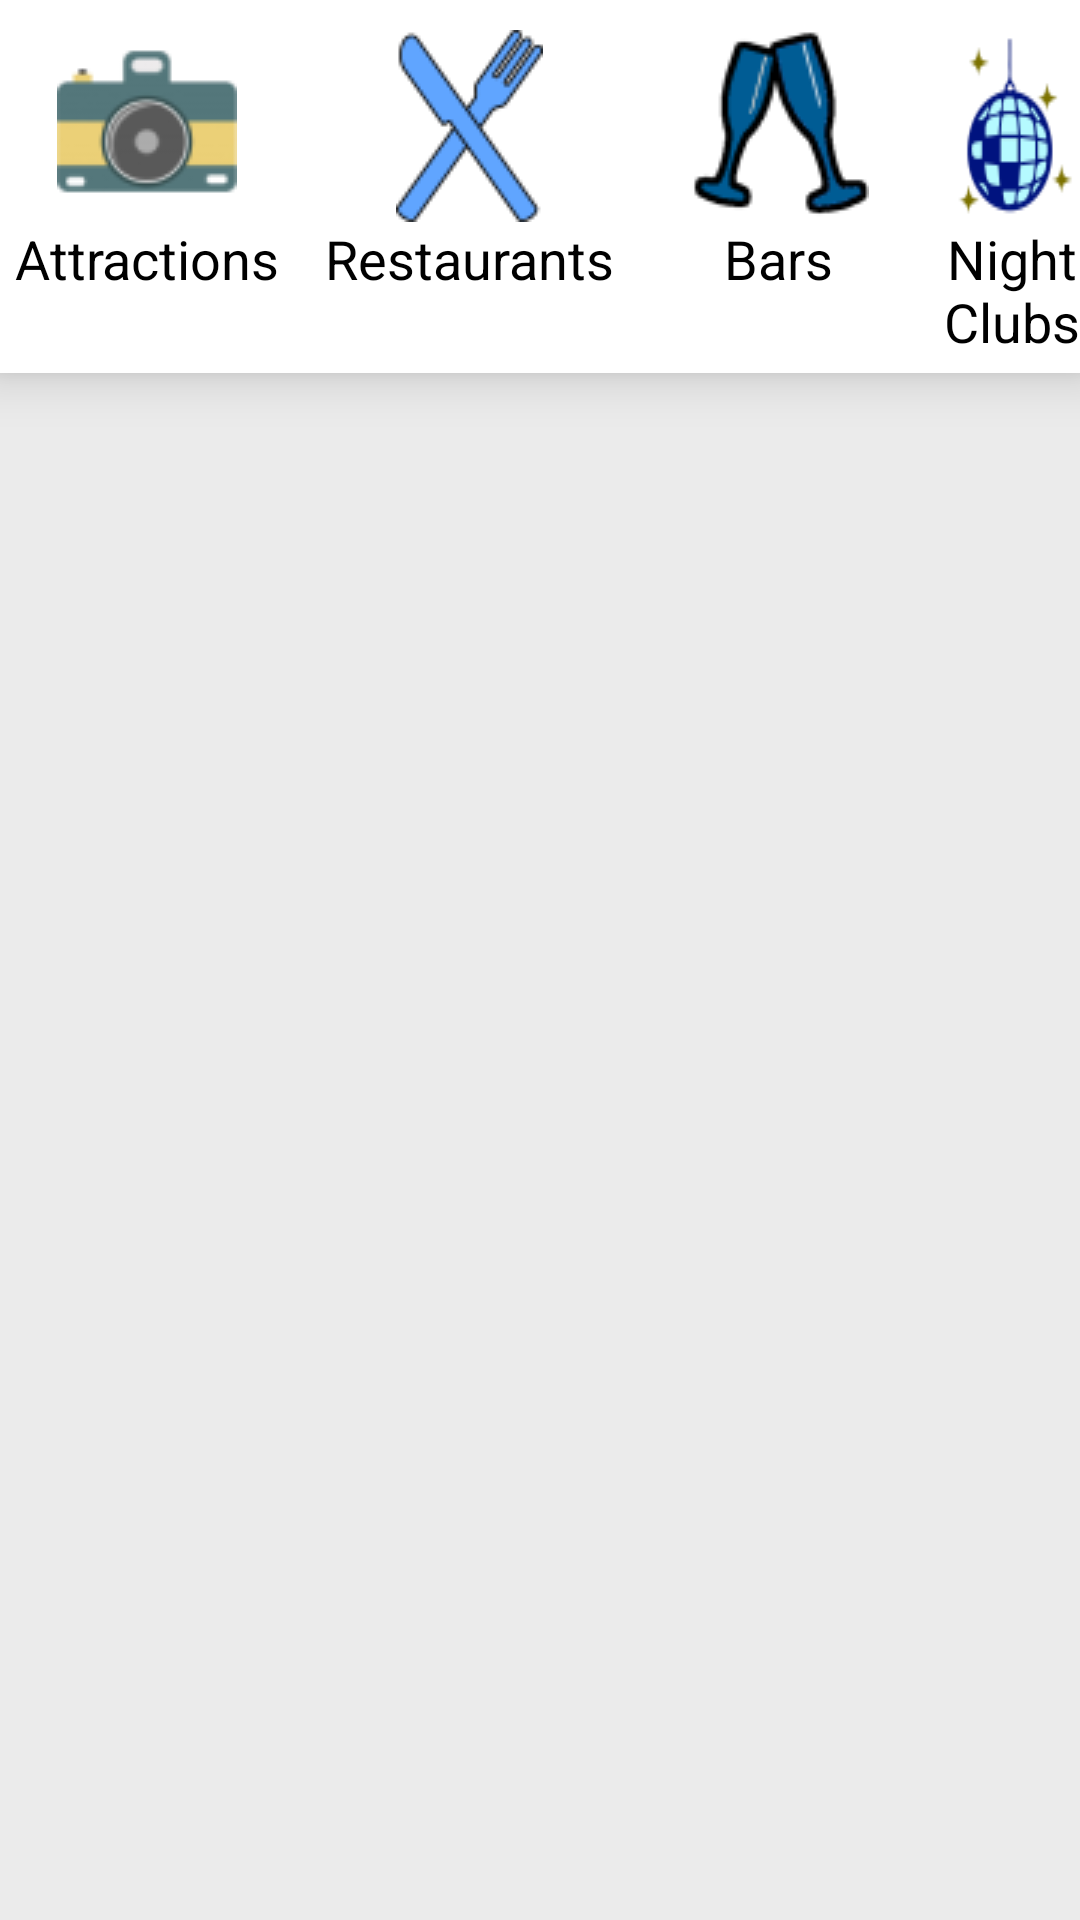

Named icons in this screenshot (1080px x 1920px) and their bounding boxes, (x1, y1, x2, y2):
camera: (57, 50, 237, 193)
cutlery: (396, 30, 543, 222)
discoball: (960, 38, 1072, 213)
